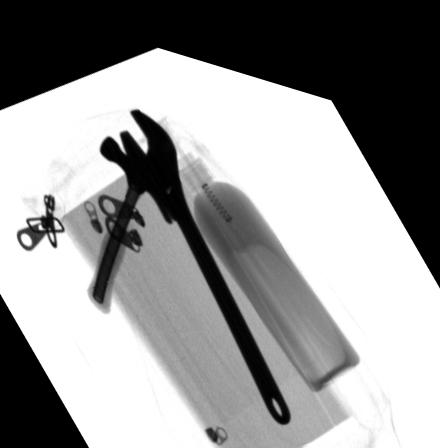Hammer: (85, 130, 178, 308)
Wrench: (119, 99, 291, 409)
